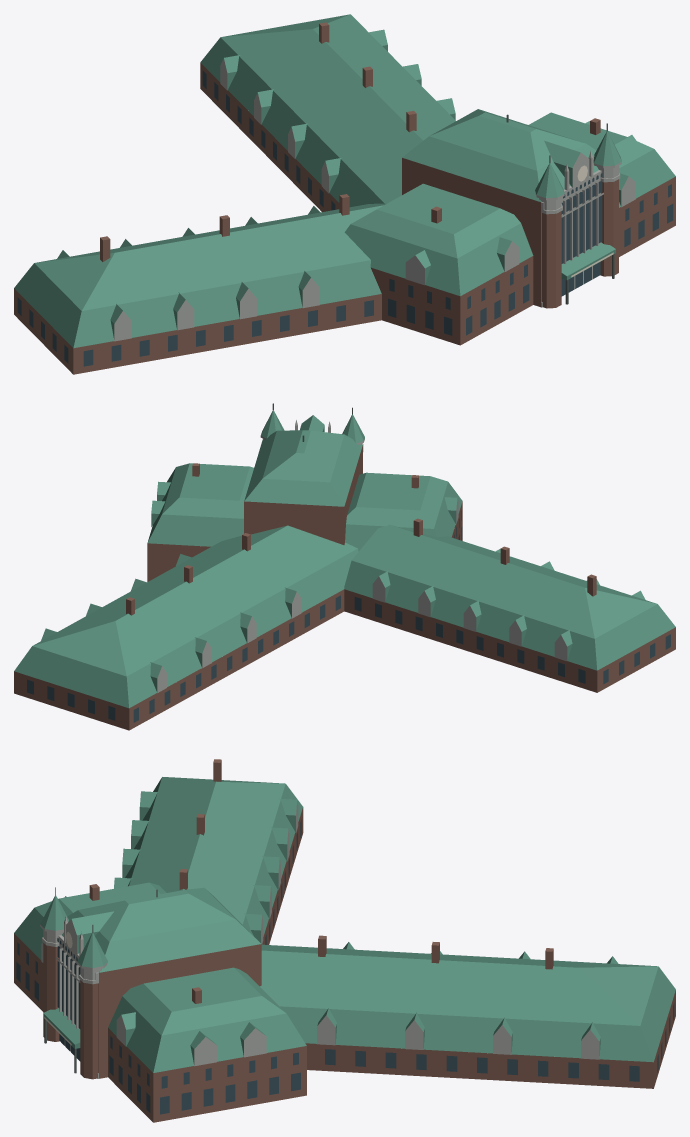
File: gare-du-palais-far.glb
3 renders of one model, top to bottom at view 1: azimuth 30°, elevation 25°; view 2: azimuth 150°, elevation 25°; view 3: azimuth 270°, elevation 25°, orthographic. The views are drawn at different scales.
Parts seen in each view (by area): view 1: gare-du-palais-0-copper, gare-du-palais-0-brick, gare-du-palais-0-stone, gare-du-palais-0-glass, gare-du-palais-0-glow, gare-du-palais-0-mullion; view 2: gare-du-palais-0-copper, gare-du-palais-0-brick, gare-du-palais-0-glass, gare-du-palais-0-stone, gare-du-palais-0-glow; view 3: gare-du-palais-0-copper, gare-du-palais-0-brick, gare-du-palais-0-stone, gare-du-palais-0-glass, gare-du-palais-0-glow, gare-du-palais-0-mullion.
Boxes of the visible parts, box(x1,y1,x2,y2) form: gare-du-palais-0-copper: box(14, 14, 675, 348); gare-du-palais-0-brick: box(14, 22, 675, 374); gare-du-palais-0-stone: box(114, 58, 635, 341); gare-du-palais-0-glass: box(17, 70, 673, 366); gare-du-palais-0-glow: box(29, 82, 671, 361); gare-du-palais-0-mullion: box(561, 182, 603, 263); gare-du-palais-0-copper: box(14, 410, 675, 708); gare-du-palais-0-brick: box(14, 445, 675, 730); gare-du-palais-0-glass: box(27, 510, 670, 722); gare-du-palais-0-stone: box(157, 420, 567, 692); gare-du-palais-0-glow: box(47, 527, 624, 713); gare-du-palais-0-copper: box(14, 777, 675, 1072); gare-du-palais-0-brick: box(14, 759, 675, 1122); gare-du-palais-0-stone: box(40, 801, 599, 1078); gare-du-palais-0-glass: box(16, 819, 674, 1114); gare-du-palais-0-glow: box(17, 845, 662, 1110); gare-du-palais-0-mullion: box(56, 948, 80, 1028).
Size of the model in its own units: 86.14 by 20.4 by 80.93.
